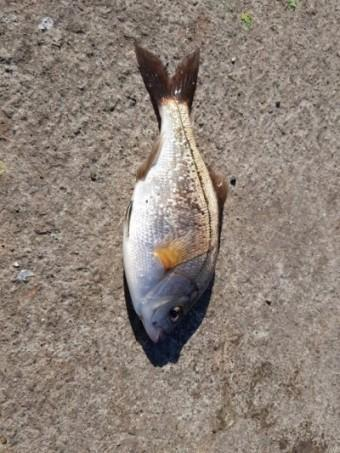fish: (124, 44, 233, 344)
